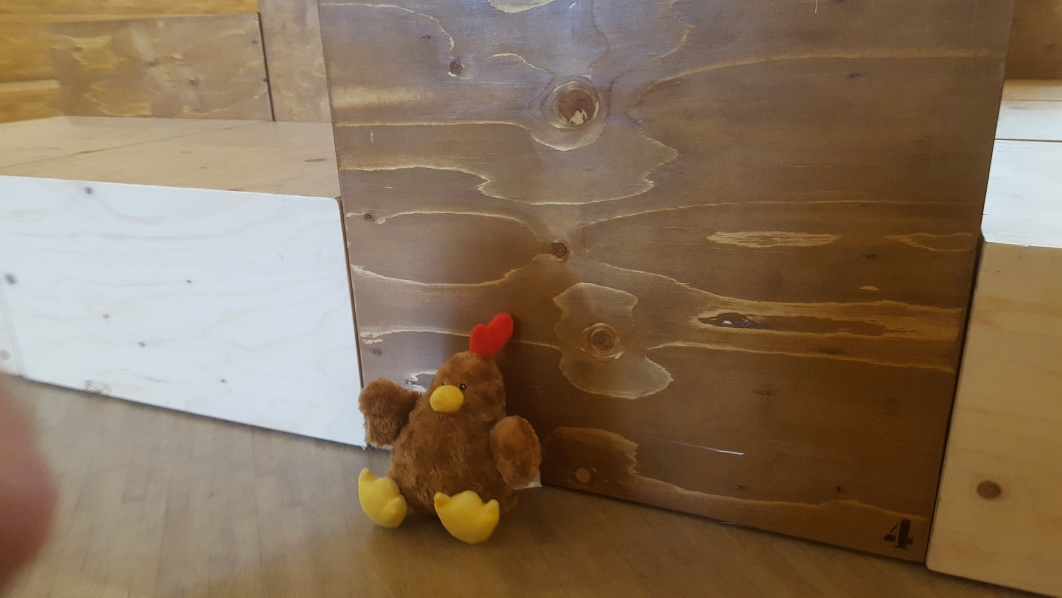chicken: (349, 313, 543, 551)
